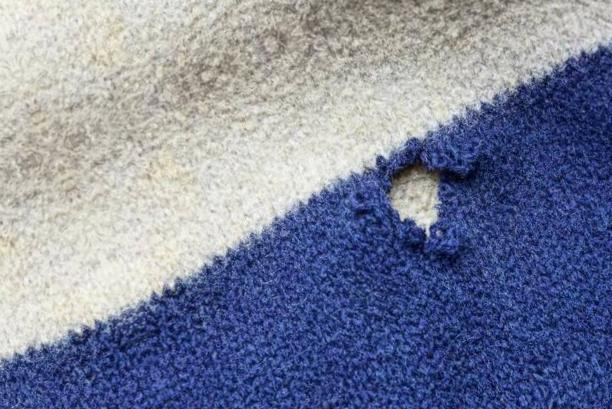hole: (370, 161, 456, 240)
